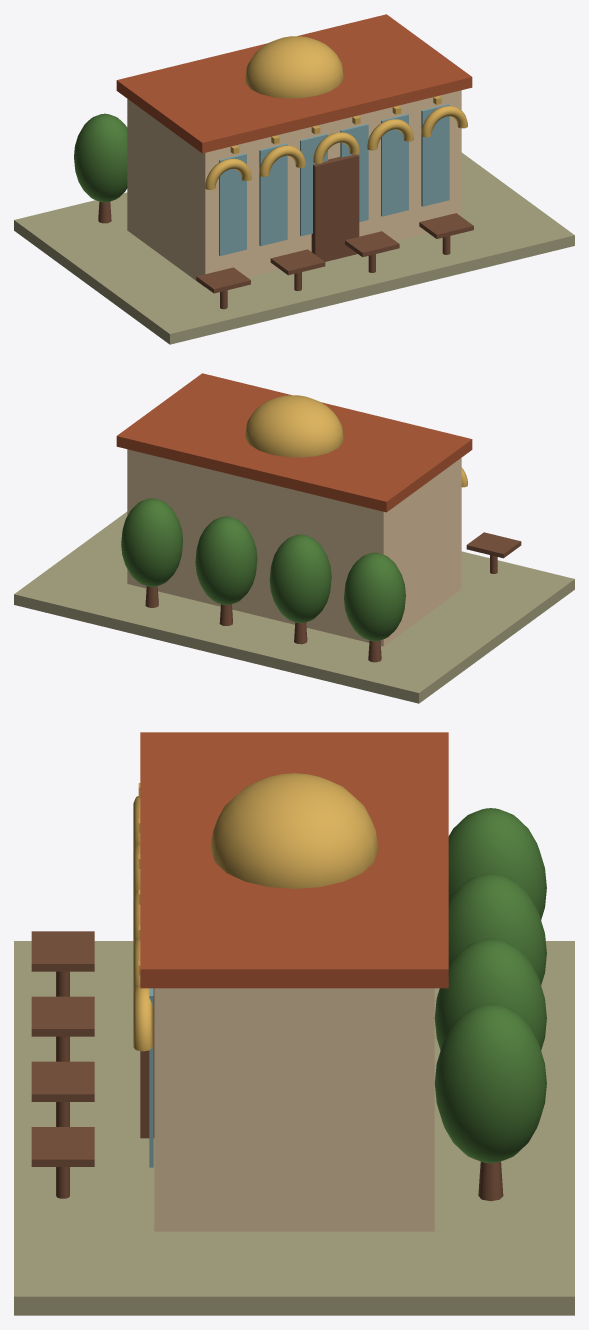
The model's file is building.glb.
3 views of the same model, one above another, from view 1: azimuth 30°, elevation 25°; view 2: azimuth 150°, elevation 25°; view 3: azimuth 270°, elevation 25° (orthographic). The views are drawn at different scales.
Bounding box in the file's own units: 6 × 2.79 × 4.
